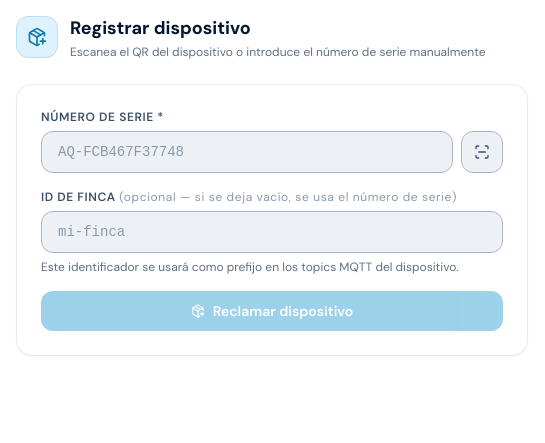
Scenario: ClaimDeviceView › shows error message when API returns error
Step 1. Type "sn-999" into the field with placeholder "AQ-FCB467F37748" → (247, 152), box [41, 131, 453, 173]
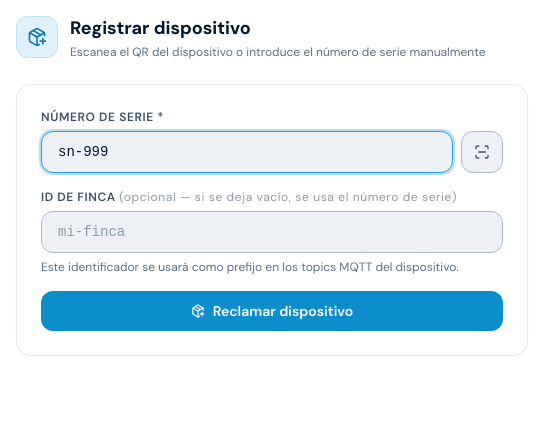
Step 2. Click the button "Reclamar dispositivo" → click(272, 311), box [41, 291, 503, 331]
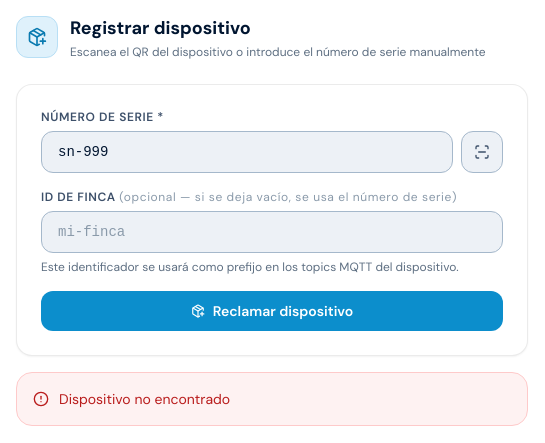
expect the text "Dispositivo no encontrado" is shown: met, box [59, 389, 230, 409]
